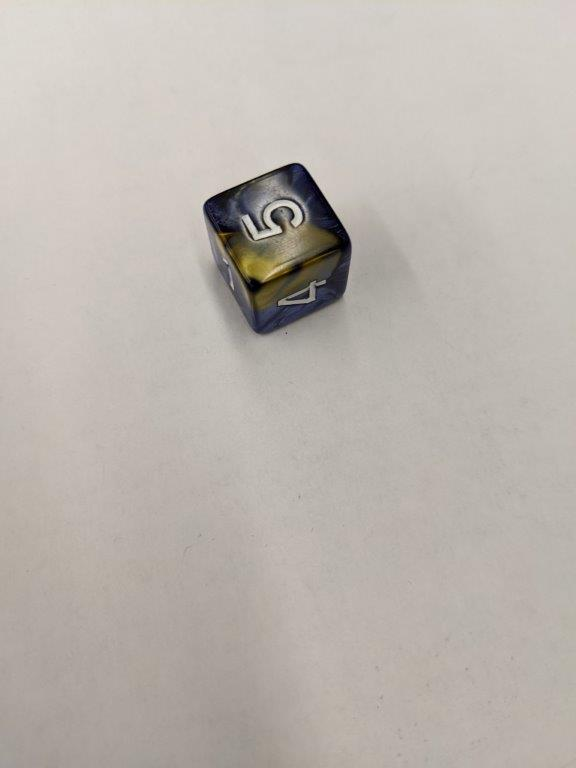d6-5: (198, 161, 356, 335)
